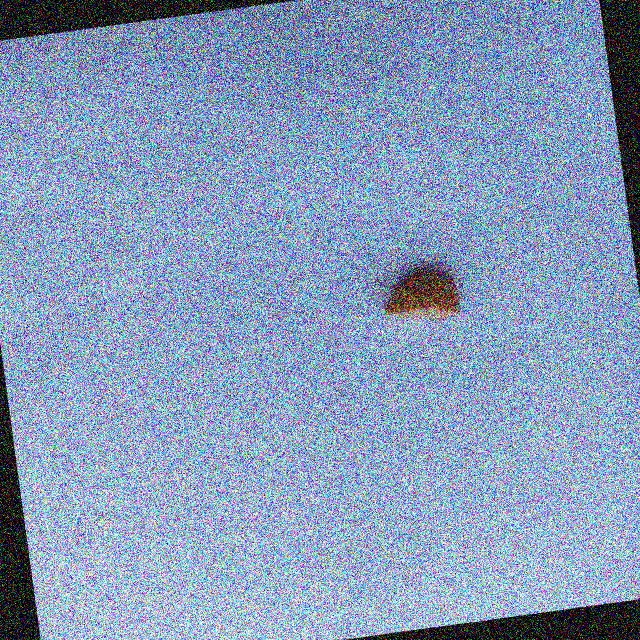grade4: (371, 259, 469, 333)
